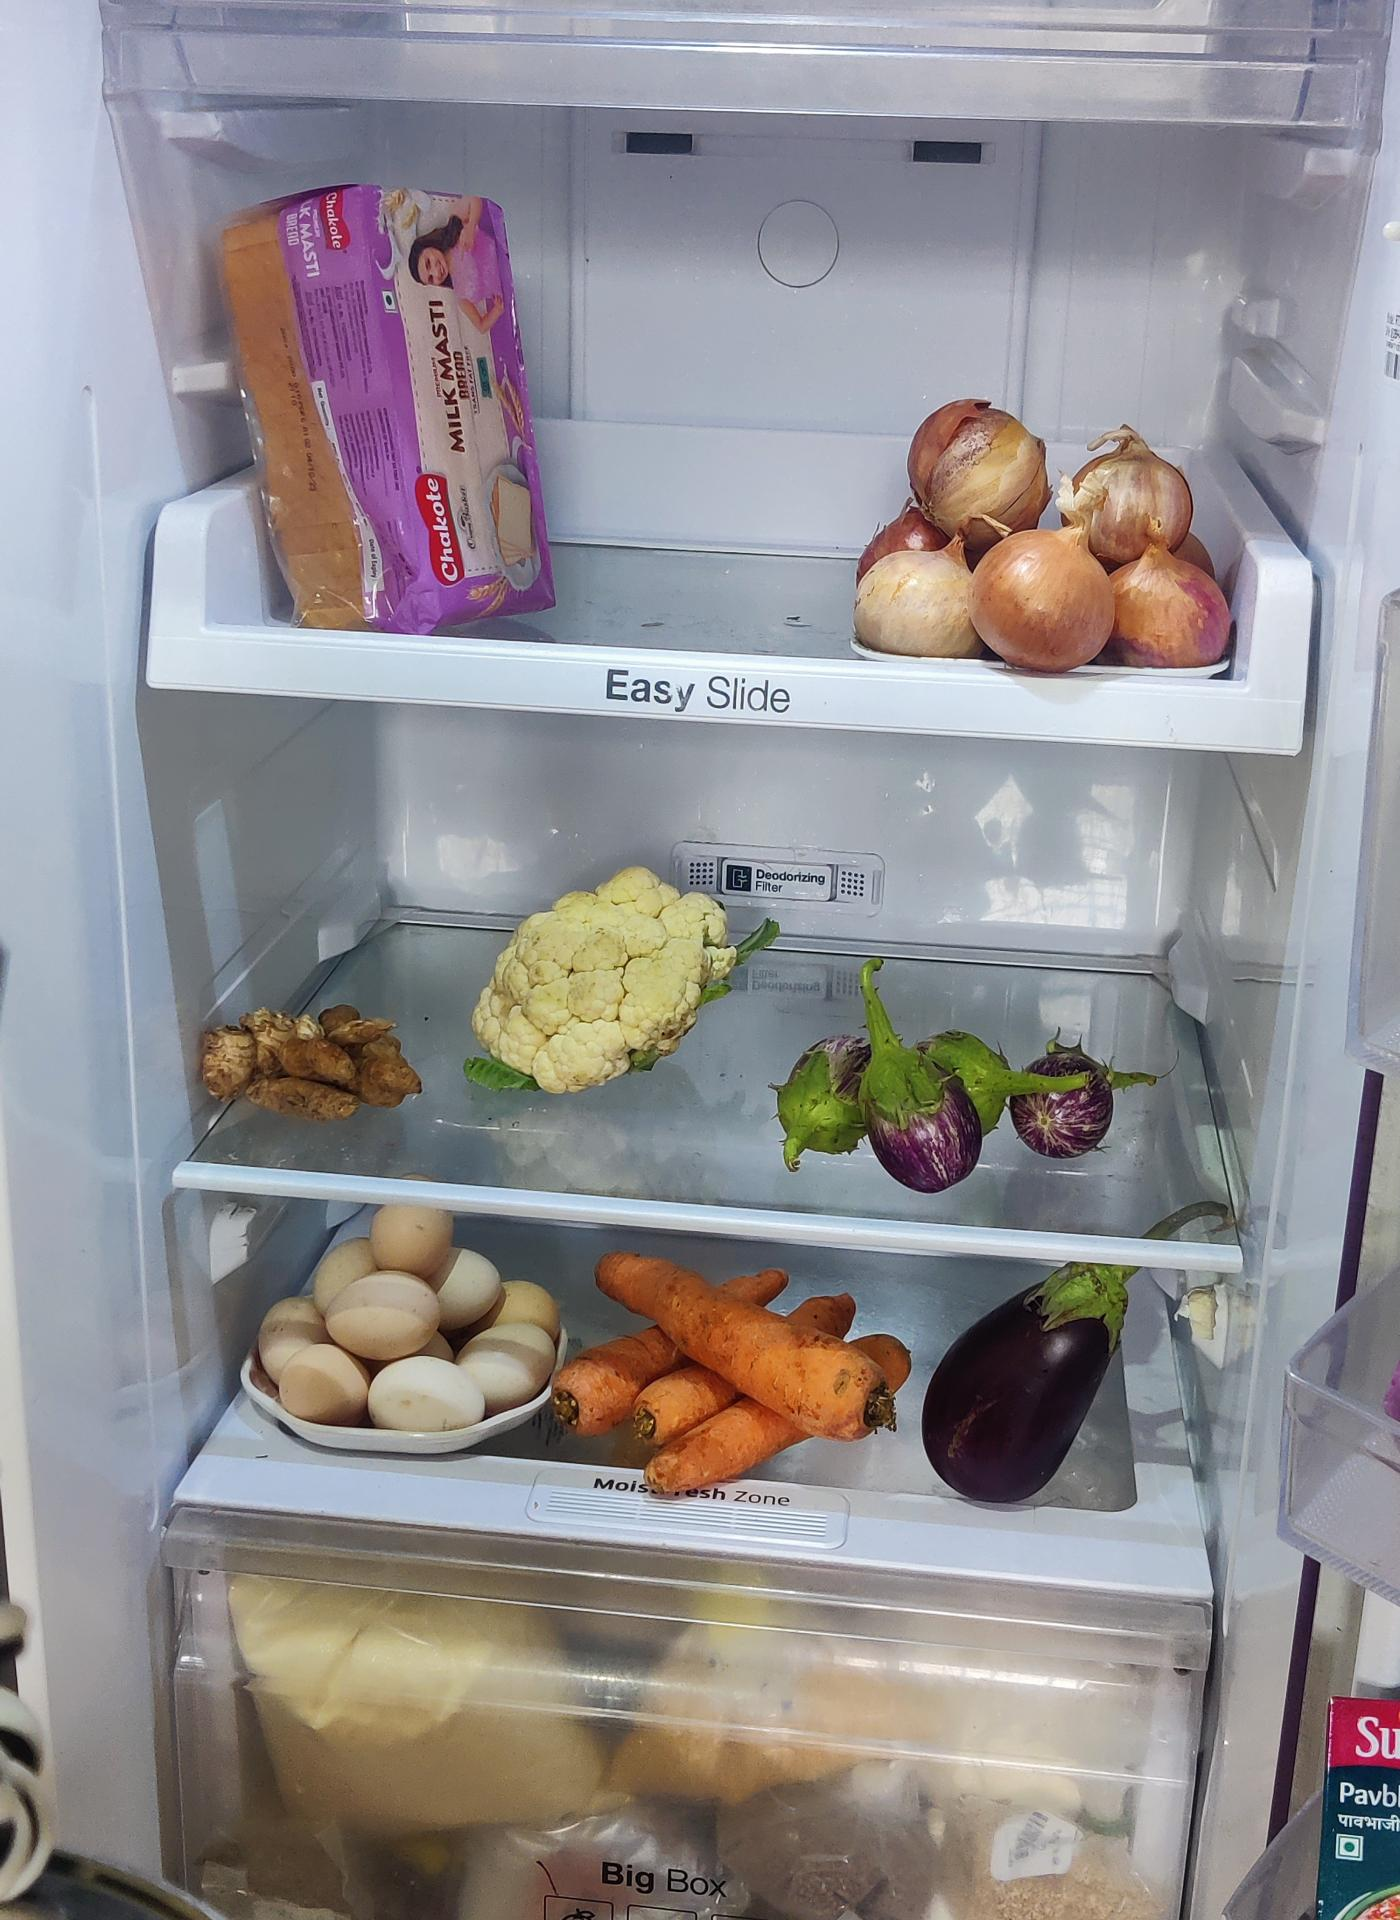bread: (210, 179, 571, 637)
brinjal: (786, 1000, 1106, 1182)
carrots: (570, 1245, 924, 1491)
cauliflower: (476, 872, 742, 1099)
egg: (243, 1196, 555, 1430)
ginger: (194, 1000, 425, 1124)
onion: (847, 405, 1236, 681)
